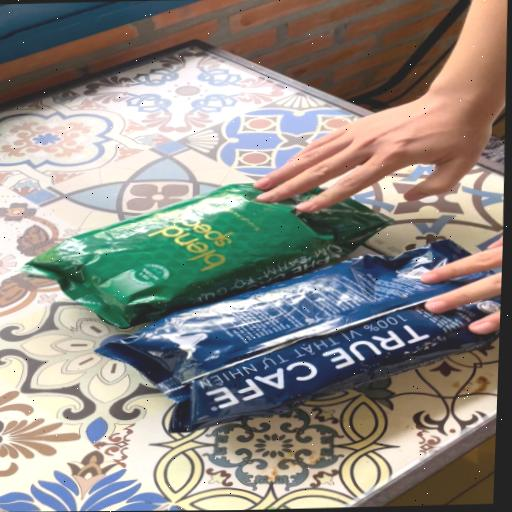cafe_hat: (95, 240, 501, 432)
